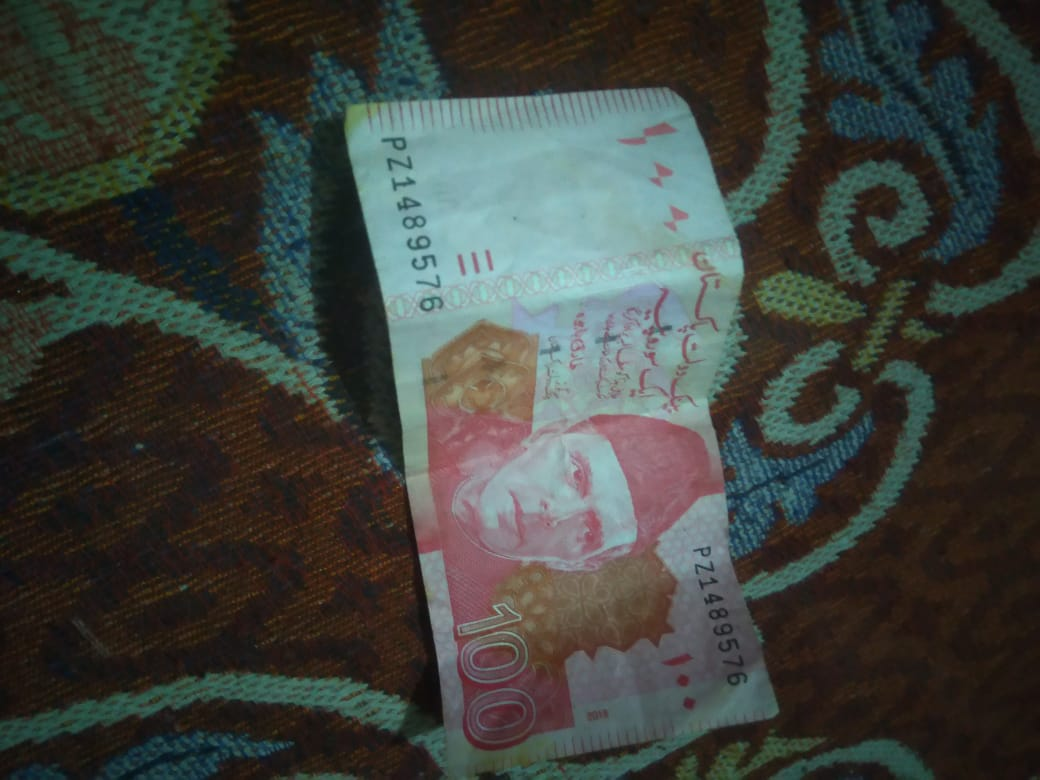100 rupee: (309, 76, 824, 768)
